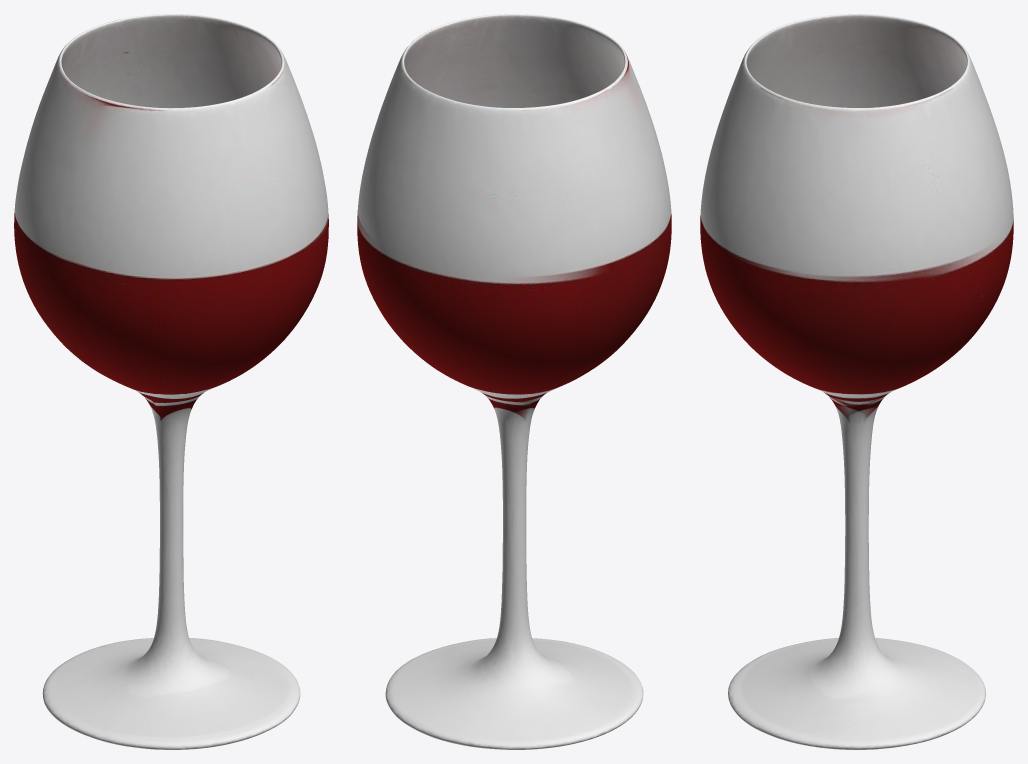
The model's file is wine_glass.glb.
3 renders of one model, left to right at view 1: azimuth 30°, elevation 25°; view 2: azimuth 150°, elevation 25°; view 3: azimuth 270°, elevation 25°, orthographic.
Bounding box in the file's own units: 0.8492 × 1.9 × 0.8482.
1 material, 1 textured.
